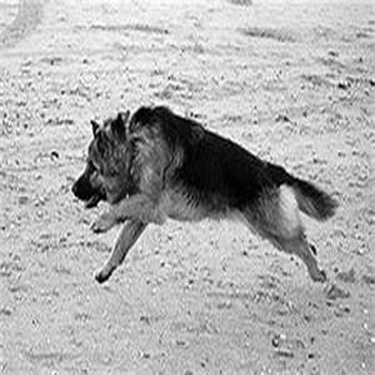dog: (53, 89, 341, 300)
